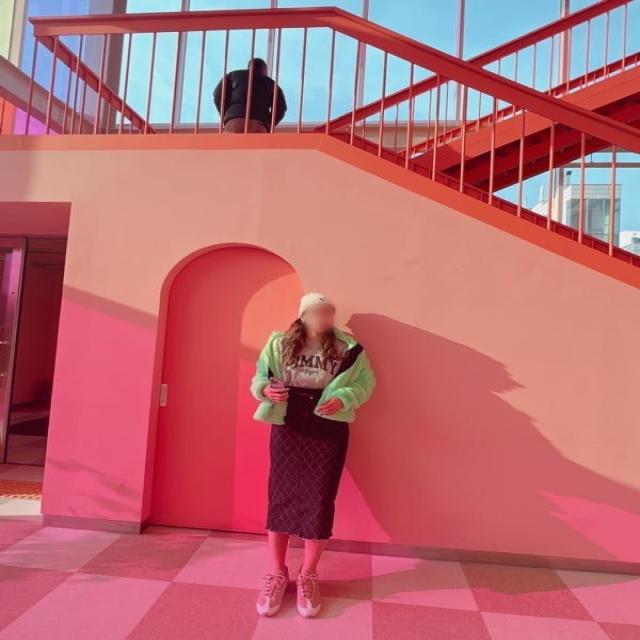jacket: (254, 325, 378, 425)
skirt: (268, 388, 349, 541)
